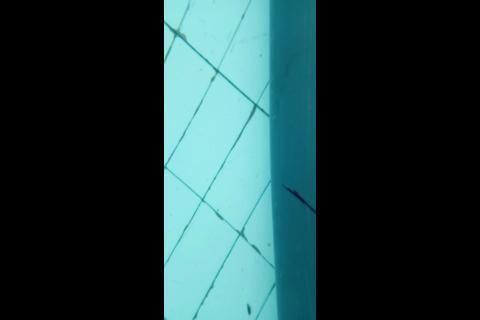keretakan: (281, 182, 315, 215)
